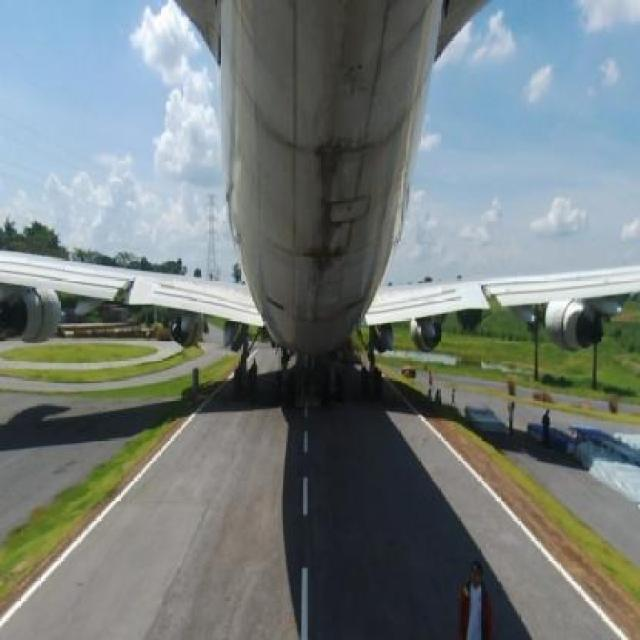Scartch: (271, 138, 372, 296), (298, 10, 376, 136)
